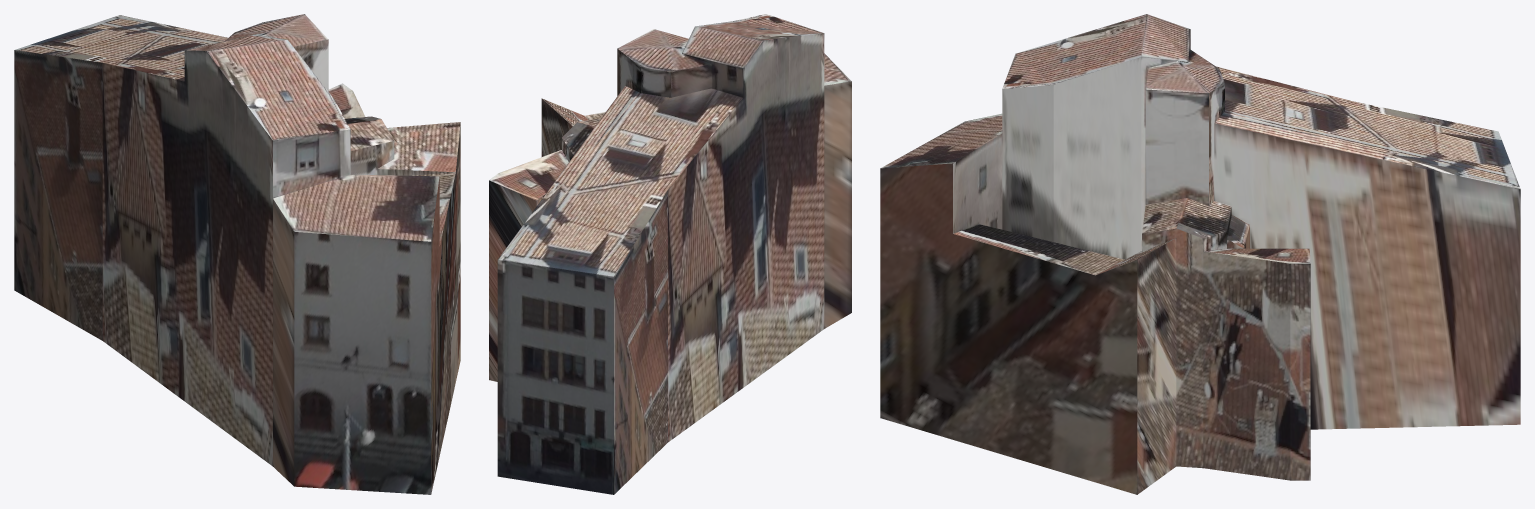
3 views of the same model, side by side, from view 1: azimuth 30°, elevation 25°; view 2: azimuth 150°, elevation 25°; view 3: azimuth 270°, elevation 25° (orthographic). The views are drawn at different scales.
Visible parts, largest first — view 1: Z_UP; view 2: Z_UP; view 3: Z_UP.
Boxes of the visible parts, x1,y1,x2,y2 form: Z_UP: [14, 14, 460, 494]; Z_UP: [489, 14, 851, 494]; Z_UP: [880, 14, 1520, 494].
Bounding box in the file's own units: 17.84 × 23.76 × 38.19.
2 materials, 1 textured.
